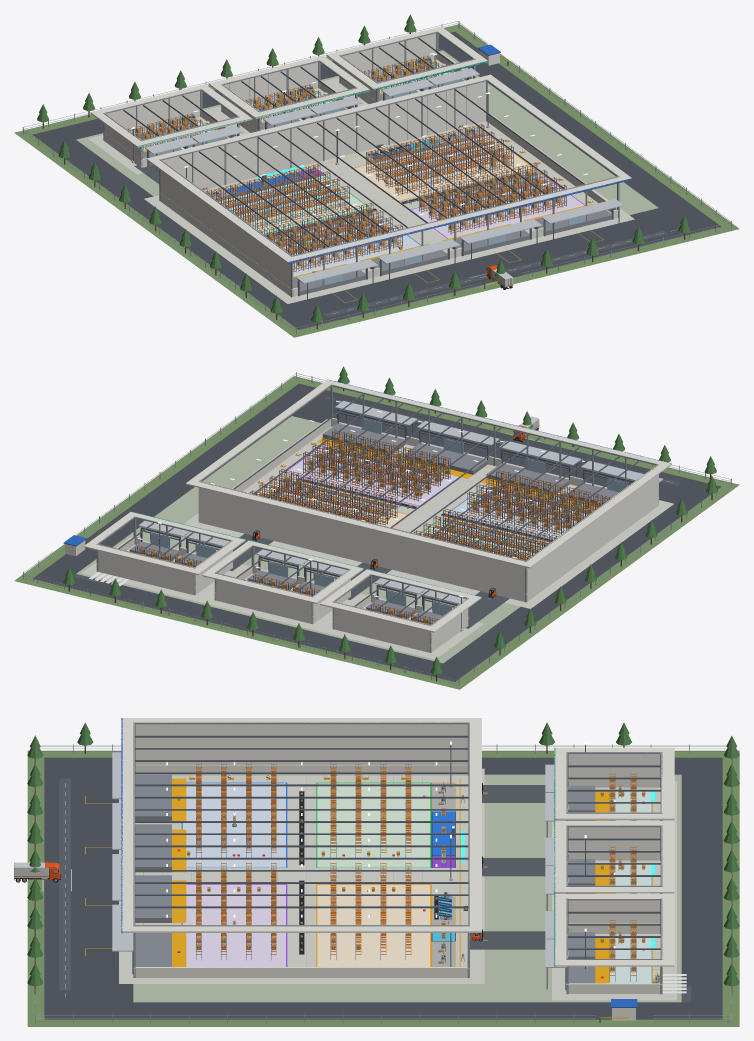
File: dc_preview.glb
3 views of the same model, one above another, from view 1: azimuth 30°, elevation 25°; view 2: azimuth 150°, elevation 25°; view 3: azimuth 270°, elevation 25° (orthographic). The views are drawn at different scales.
Visible parts, largest first — view 1: SITE_ASPHALT, WALL_W_BACK, SITE_GRASS, FLOOR_W, GROUND_EXTERIOR, WALL_W_WEST, ZONE_W_D, APRON_W, ZONE_W_C, ZONE_W_B, ZONE_W_A, WALL_F3_BACK (+27 smaller); view 2: SITE_ASPHALT, WALL_W_BACK, SITE_GRASS, GROUND_EXTERIOR, WALL_W_WEST, FLOOR_W, APRON_W, ZONE_W_B, WALL_F1_BACK, WALL_F2_BACK, WALL_F3_BACK, EAVE_W_N (+26 smaller); view 3: SITE_ASPHALT, GROUND_EXTERIOR, SITE_GRASS, WALL_W_WEST, FLOOR_W, ZONE_W_C, ZONE_W_D, ZONE_W_A, ZONE_W_B, APRON_W, LWALL_W_E_0, LWALL_W_W_0 (+64 smaller).
Boxes of the visible parts, <box> form: SITE_ASPHALT: <box>32,31,721,329</box>; WALL_W_BACK: <box>161,80,485,189</box>; SITE_GRASS: <box>14,24,739,337</box>; FLOOR_W: <box>203,121,614,296</box>; GROUND_EXTERIOR: <box>76,50,658,214</box>; WALL_W_WEST: <box>159,160,292,296</box>; ZONE_W_D: <box>354,135,531,200</box>; APRON_W: <box>144,114,634,303</box>; ZONE_W_C: <box>219,175,368,233</box>; ZONE_W_B: <box>411,177,584,238</box>; ZONE_W_A: <box>277,217,420,276</box>; WALL_F3_BACK: <box>339,33,436,81</box>; SITE_ASPHALT: <box>32,383,721,681</box>; WALL_W_BACK: <box>198,481,526,601</box>; SITE_GRASS: <box>14,376,739,689</box>; GROUND_EXTERIOR: <box>76,416,520,663</box>; WALL_W_WEST: <box>527,464,658,601</box>; FLOOR_W: <box>243,426,577,547</box>; APRON_W: <box>183,419,673,608</box>; ZONE_W_B: <box>287,444,458,505</box>; WALL_F1_BACK: <box>333,602,431,652</box>; WALL_F2_BACK: <box>214,573,312,623</box>; WALL_F3_BACK: <box>96,544,194,595</box>; EAVE_W_N: <box>185,480,534,568</box>; SITE_ASPHALT: <box>44,757,722,1019</box>; GROUND_EXTERIOR: <box>133,774,681,1002</box>; SITE_GRASS: <box>27,750,739,1026</box>; WALL_W_WEST: <box>135,722,467,764</box>; FLOOR_W: <box>135,775,468,966</box>; ZONE_W_C: <box>316,783,431,868</box>; ZONE_W_D: <box>317,885,430,966</box>; ZONE_W_A: <box>182,783,286,868</box>; ZONE_W_B: <box>182,885,285,966</box>; APRON_W: <box>119,768,484,983</box>; LWALL_W_E_0: <box>135,968,467,977</box>; LWALL_W_W_0: <box>135,766,467,775</box>.
Size of the model in its own units: 136 by 12.03 by 151.
